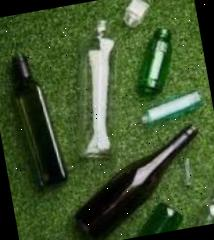glass: (2, 0, 214, 240)
